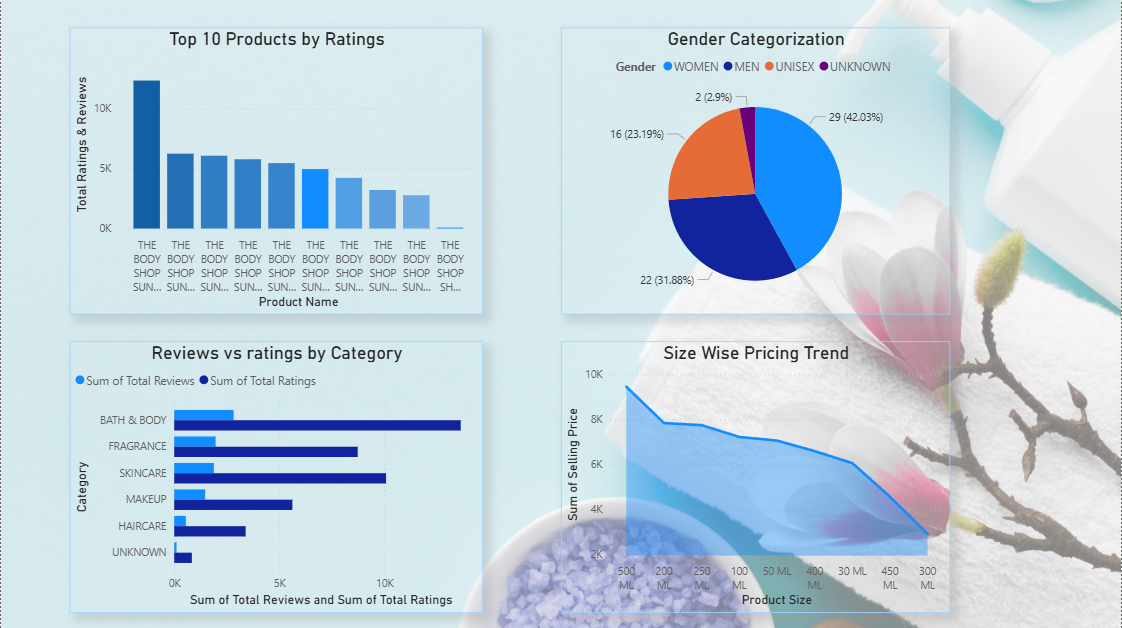

This screenshot's page, from the dashboard's own definition file:
{"tool":"powerbi","page":{"name":"Page 4","canvas":[1280,720],"ordinal":3},"visuals":[{"type":"clusteredColumnChart","title":"Top 10 Products by Rating","fields":{"Category":["FactSales.Product Name"],"Y":["FactSales.Total Ratings & Reviews"]},"box":[20.6,13.7,585.9,315.6],"z":0},{"type":"clusteredBarChart","title":"Review Vs Rating by Category","fields":{"Category":["FactSales.Category"],"Y":["Sum(FactSales.Ratings)","Sum(FactSales.Total Reviews)"]},"box":[649.1,13.7,614.8,315.6],"z":1000},{"type":"pieChart","title":"Gender Categorization","fields":{"Category":["FactSales.Gender"],"Y":["CountNonNull(FactSales.Gender)"]},"box":[20.6,400.7,585.9,304.6],"z":2000},{"type":"areaChart","title":"Size Wise Pricing Trend","fields":{"Category":["FactSales.Product Size"],"Y":["Sum(FactSales.Selling Price)"]},"box":[649.1,400.7,614.8,304.6],"z":3000}]}

Visuals, with their boxes in screenshot pixels (x1, y1, x2, y2), scaled from the page's 1280x720 canvas onto the 1122x628 screenshot:
"Top 10 Products by Rating" clusteredColumnChart: bbox(18, 12, 532, 287)
"Review Vs Rating by Category" clusteredBarChart: bbox(569, 12, 1108, 287)
"Gender Categorization" pieChart: bbox(18, 349, 532, 615)
"Size Wise Pricing Trend" areaChart: bbox(569, 349, 1108, 615)
